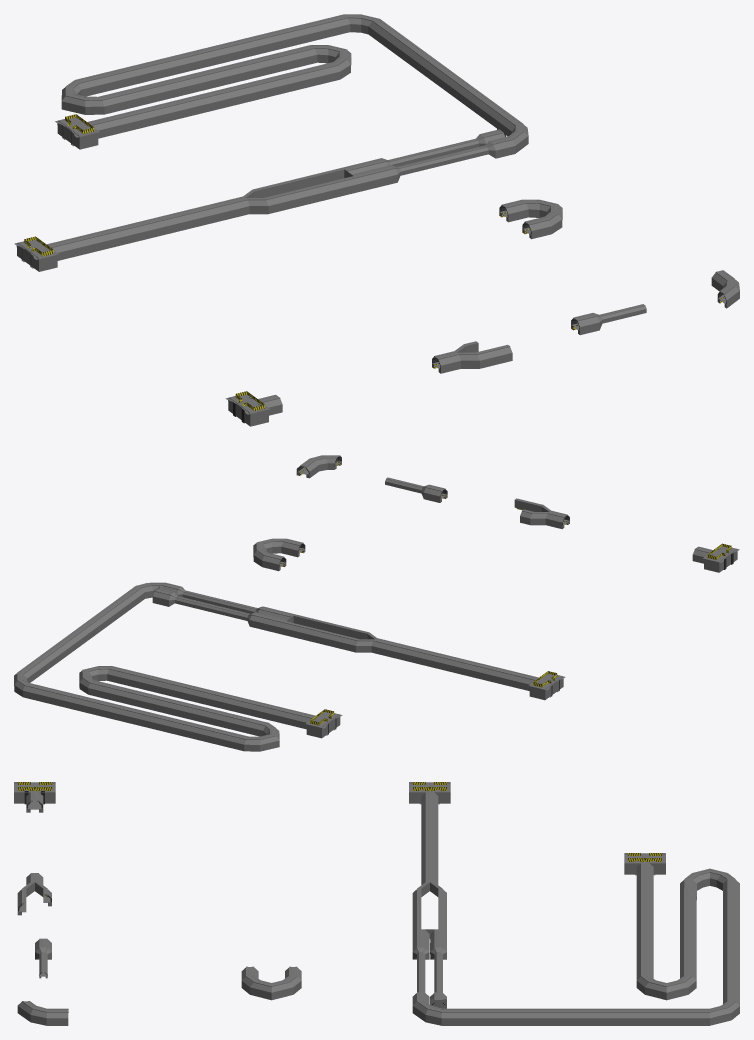
Rendered from tunnel models FIXED AGAIN.fbx.
3 views of the same model, one above another, from view 1: azimuth 30°, elevation 25°; view 2: azimuth 150°, elevation 25°; view 3: azimuth 270°, elevation 25° (orthographic). The views are drawn at different scales.
Visible parts, largest first — view 1: Cube.062, Cube.076, Cube.078, Cube.082, Cube.081, Cube.077; view 2: Cube.062, Cube.076, Cube.078, Cube.082, Cube.081, Cube.077; view 3: Cube.062, Cube.076, Cube.077, Cube.082, Cube.078, Cube.081.
Boxes of the visible parts, x1,y1,x2,y2 form: Cube.062: (14, 14, 528, 271); Cube.076: (499, 199, 562, 239); Cube.078: (432, 341, 492, 373); Cube.082: (225, 391, 270, 426); Cube.081: (571, 304, 646, 335); Cube.077: (711, 270, 739, 308); Cube.062: (14, 582, 565, 751); Cube.076: (253, 538, 305, 571); Cube.078: (520, 502, 569, 529); Cube.082: (703, 543, 739, 572); Cube.081: (385, 477, 447, 502); Cube.077: (296, 455, 341, 478); Cube.062: (409, 782, 739, 1025); Cube.076: (241, 966, 301, 1000); Cube.077: (17, 1001, 68, 1025); Cube.082: (14, 782, 55, 804); Cube.078: (17, 873, 51, 906); Cube.081: (35, 938, 51, 978).
Bounding box in the file's own units: 26259 × 852 × 34712.
